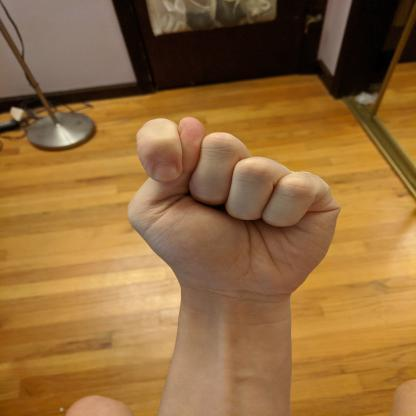T: (120, 113, 344, 305)
